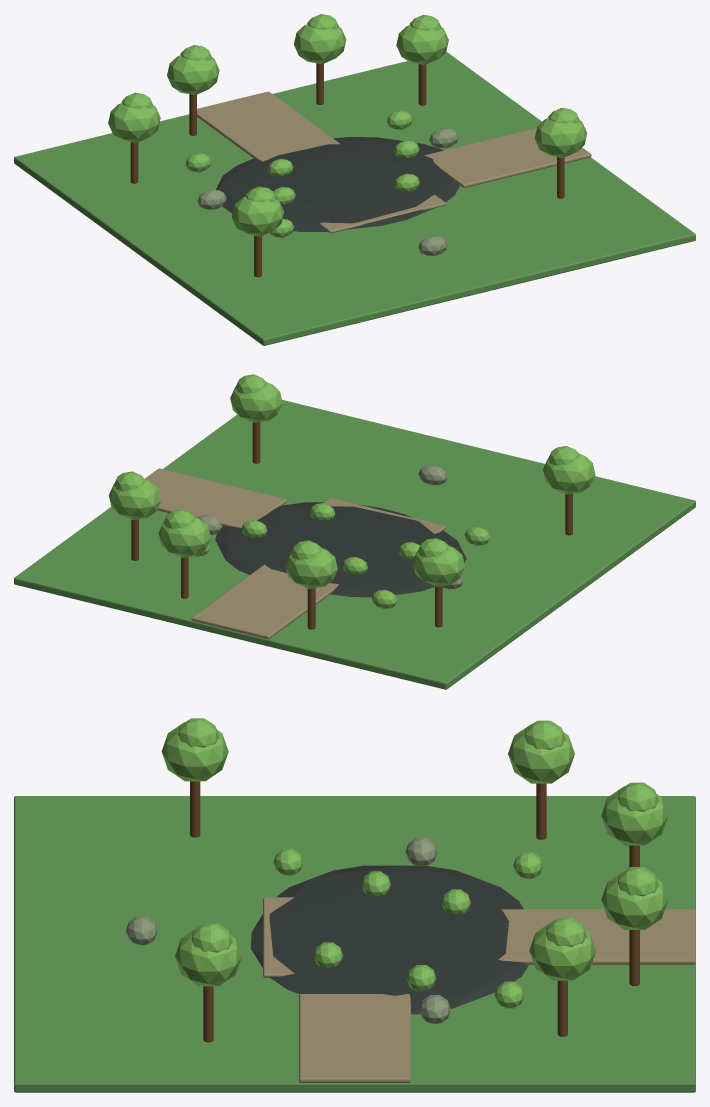
The model's file is chunk_fern_hollow.fbx.
3 renders of one model, top to bottom at view 1: azimuth 30°, elevation 25°; view 2: azimuth 150°, elevation 25°; view 3: azimuth 270°, elevation 25°, orthographic. The views are drawn at different scales.
Visible parts, largest first — view 1: chunk_fern_hollow; view 2: chunk_fern_hollow; view 3: chunk_fern_hollow.
Boxes of the visible parts, x1=… form: chunk_fern_hollow: x1=14, y1=14, x2=695, y2=345; chunk_fern_hollow: x1=14, y1=374, x2=695, y2=689; chunk_fern_hollow: x1=14, y1=718, x2=695, y2=1092.
Bounding box in the file's own units: 256 × 54.9 × 256.
